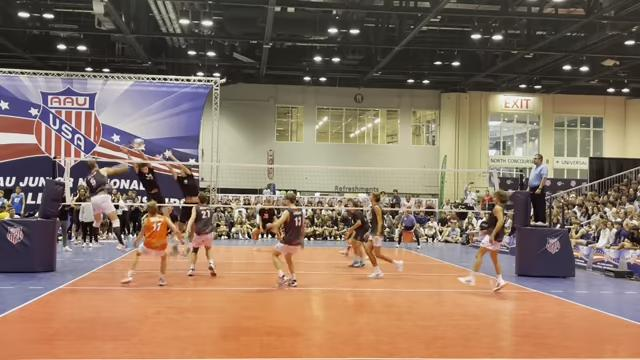attacco: (75, 156, 130, 254)
muro: (154, 144, 206, 257), (124, 144, 175, 231)
